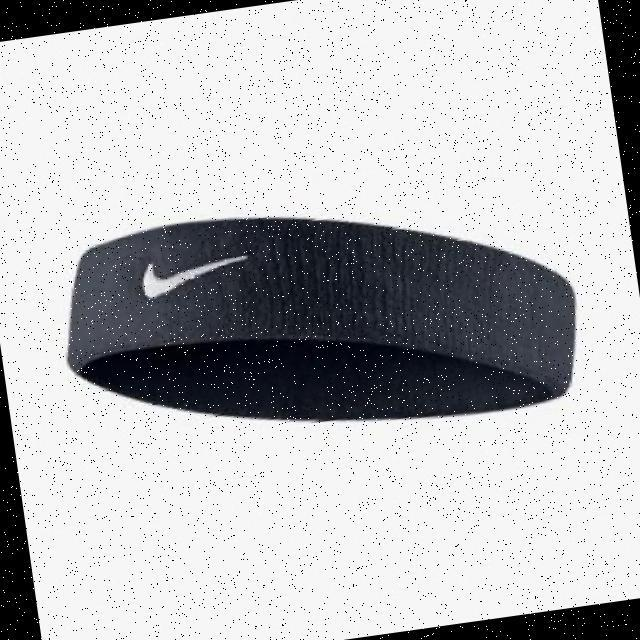Nike: (136, 246, 251, 300)
